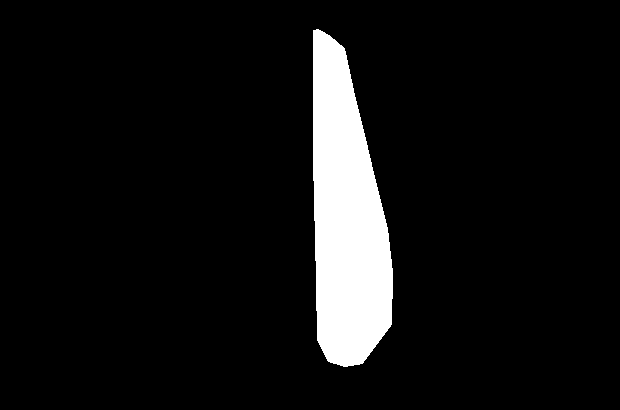type5: (310, 25, 396, 372)
